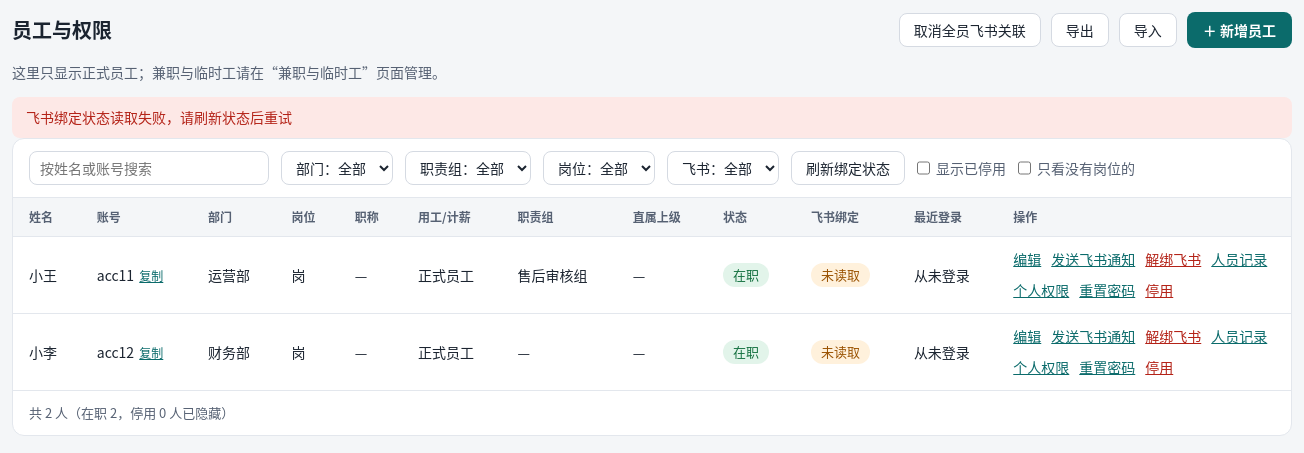
it: 员工与权限：职责组筛选 › 按职责组只看在组成员，已退出的不算
This screenshot has width=1304, height=453.
Check: the text "小李" is shown, box [13, 314, 81, 390]
Select "售后审核组" in the dropdown named "职责组" at (468, 168), box [405, 151, 531, 185]
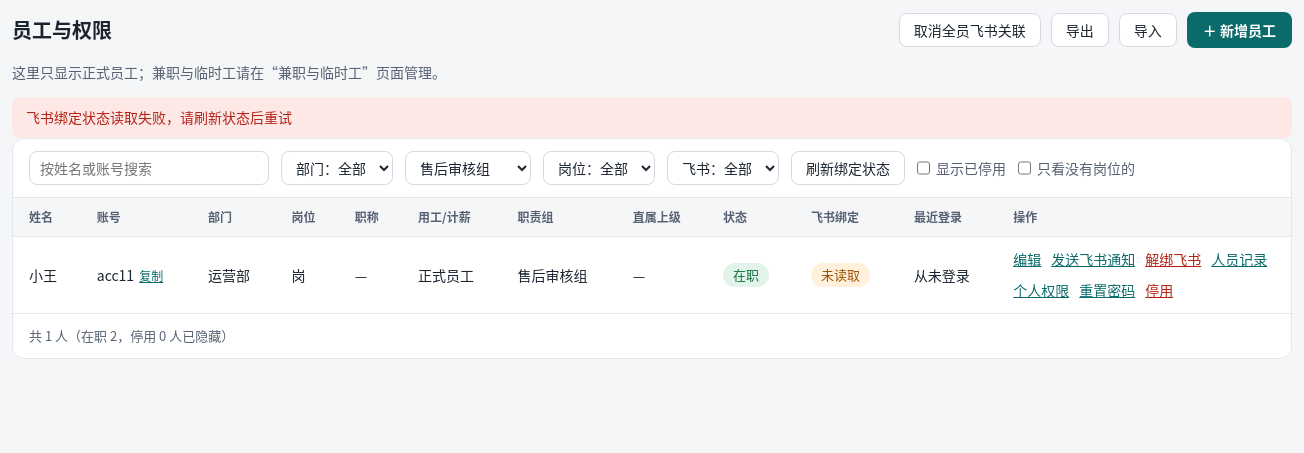
Check: the text "小王" is shown, box [13, 236, 81, 313]
Check: the text "小李" is gone
